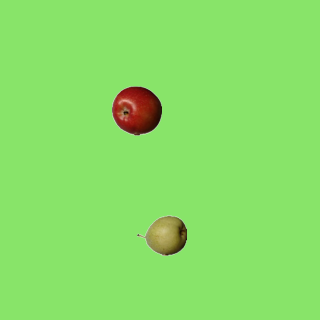Apple Braeburn: (111, 85, 161, 135)
Pear: (136, 210, 186, 260)
